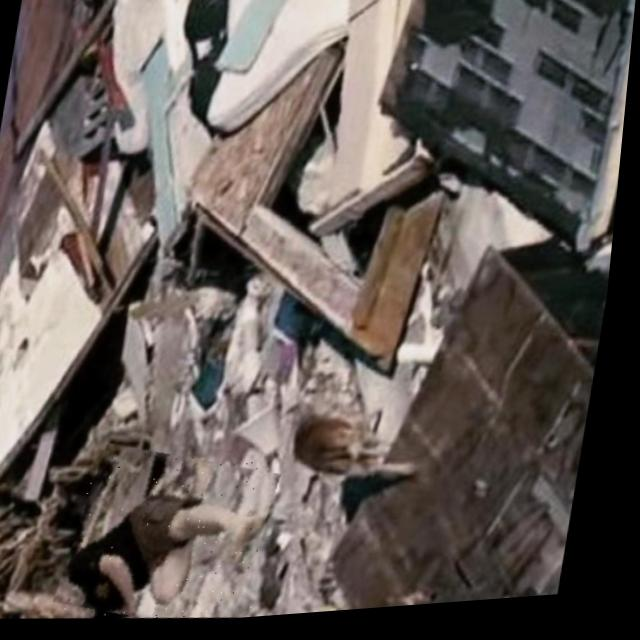Person in Rubble: (68, 439, 290, 633)
